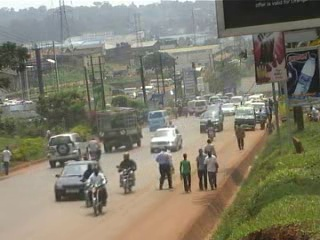Car: (53, 159, 107, 202), (42, 131, 91, 167), (147, 128, 184, 156), (220, 101, 237, 115)
Motorcycle: (84, 168, 111, 217), (112, 151, 139, 194), (78, 164, 96, 209), (85, 135, 105, 164), (204, 119, 219, 147), (165, 120, 176, 131)
